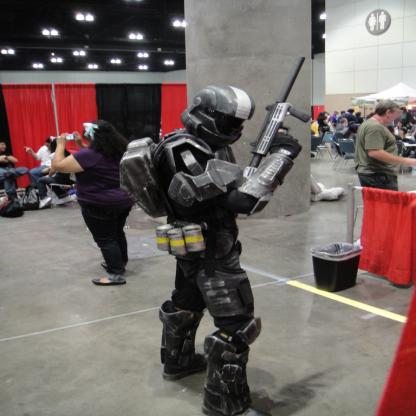Helmet: (188, 84, 266, 136)
